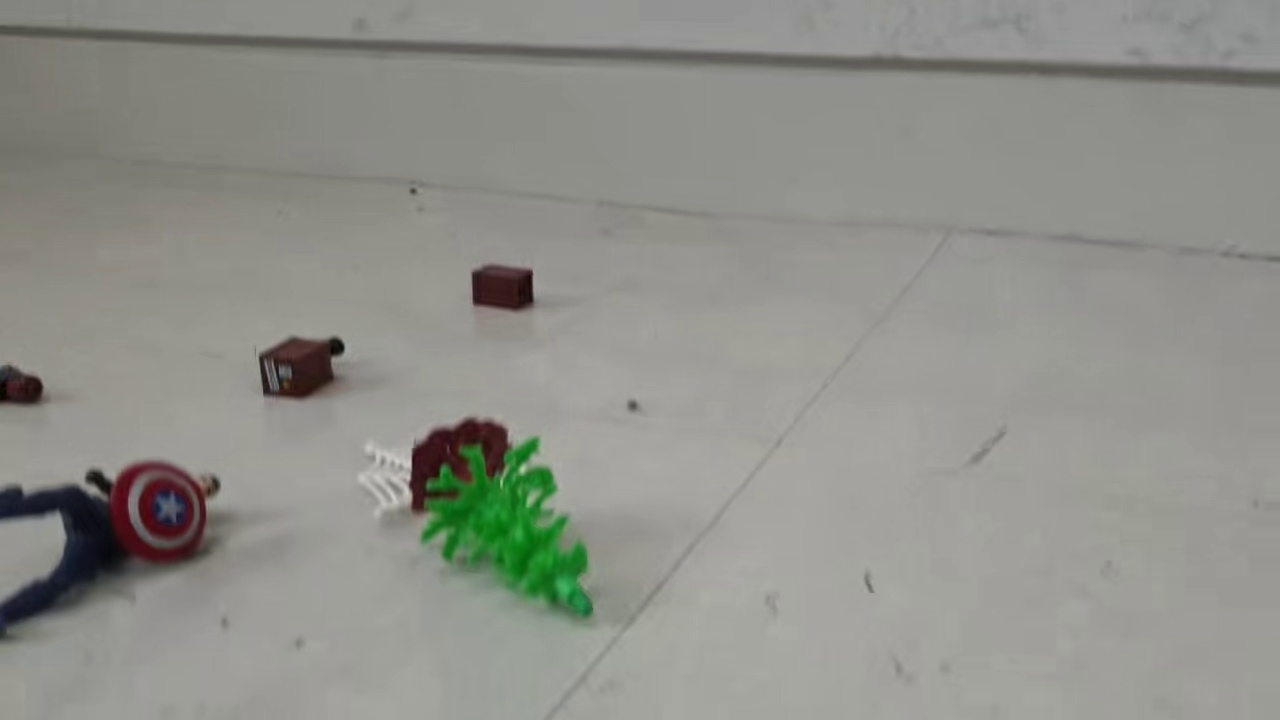box: (251, 336, 348, 404), (471, 262, 541, 312)
people: (1, 455, 226, 655)
tree: (409, 417, 599, 616)
